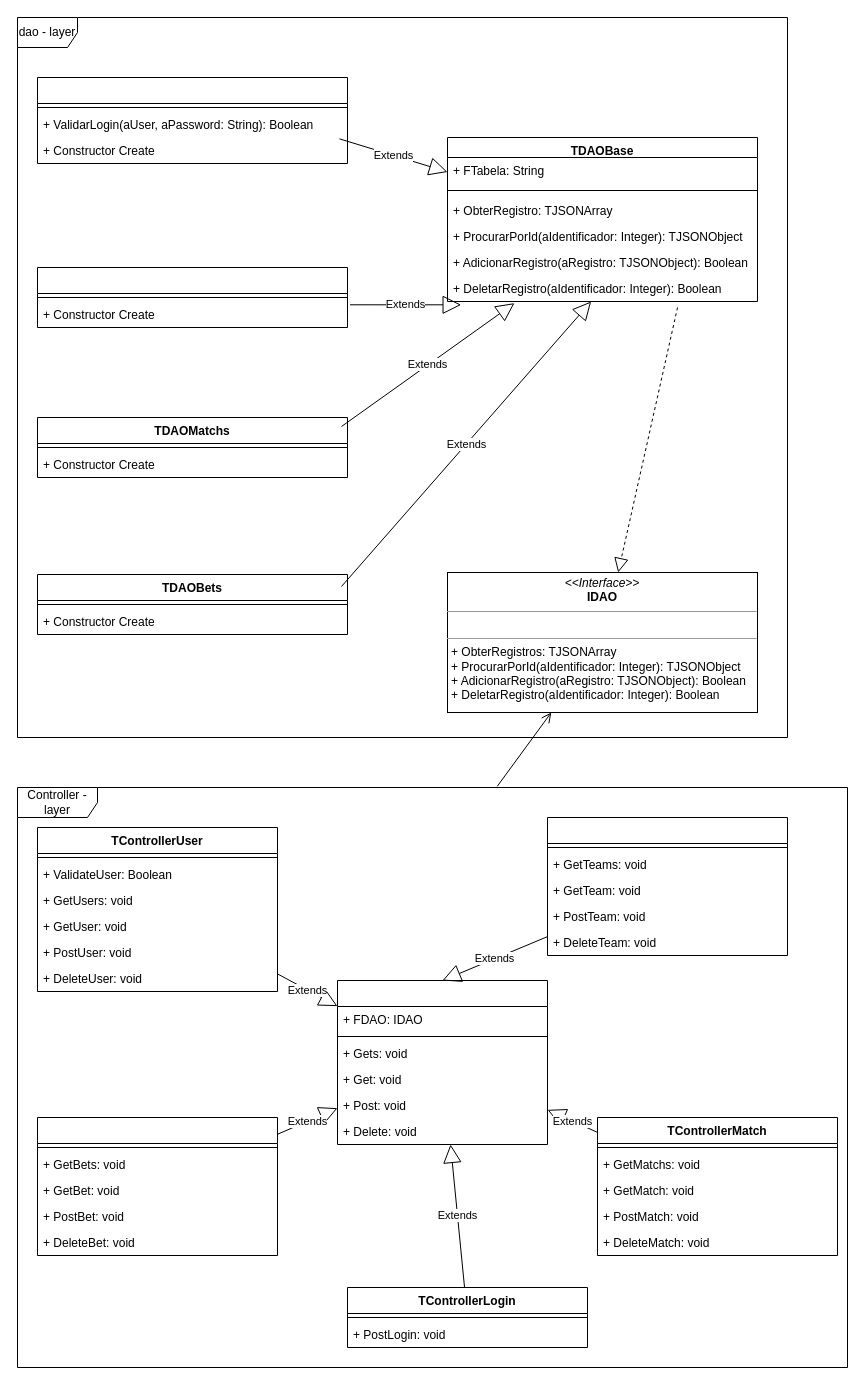
The diagram is 865 pixels wide and 1385 high, and some of its shapes have lost their labels. Each missing label, with the box of its shape:
TControllerBase: (336, 980, 548, 1144)
TControllerBet: (36, 1116, 278, 1256)
TControllerTeam: (546, 816, 788, 956)
TDAOTeams: (36, 266, 348, 328)
TDAOUser: (36, 76, 348, 164)
